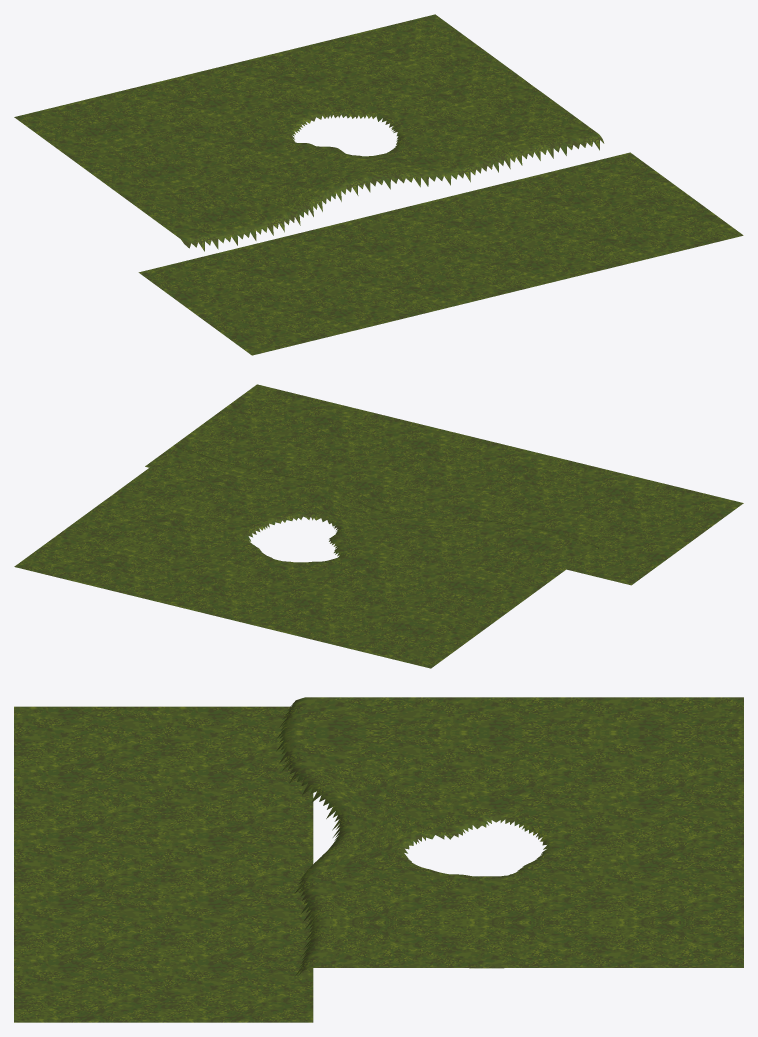
Rendered from gardengame_grassplane.fbx.
The picture shows the model from 3 angles, top to bottom: view 1: azimuth 30°, elevation 25°; view 2: azimuth 150°, elevation 25°; view 3: azimuth 270°, elevation 25°; orthographic projection. The views are drawn at different scales.
Visible parts, largest first — view 1: Plane023; view 2: Plane023; view 3: Plane023.
Boxes of the visible parts, left/top/right/bottom form: Plane023: left=14, top=14, right=743, bottom=355; Plane023: left=14, top=384, right=743, bottom=668; Plane023: left=14, top=697, right=743, bottom=1022.
Bounding box in the file's own units: 700 × 35.47 × 683.
